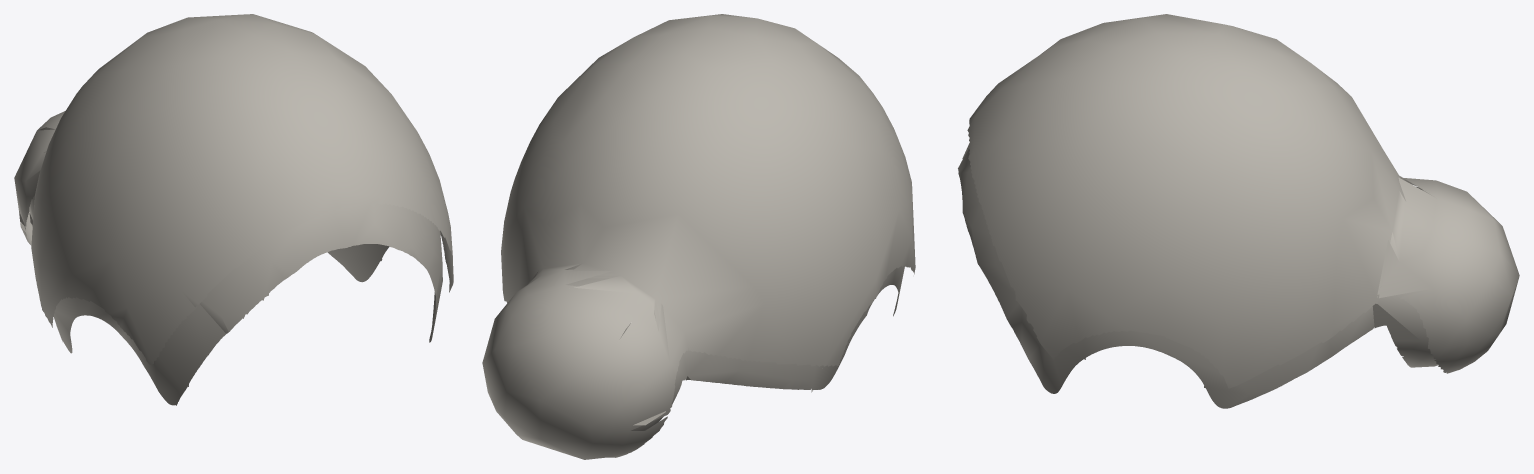
Rendered from toc_bui_edits.mid.glb.
3 renders of one model, left to right at view 1: azimuth 30°, elevation 25°; view 2: azimuth 150°, elevation 25°; view 3: azimuth 270°, elevation 25°, orthographic. The views are drawn at different scales.
Visible parts, largest first — view 1: toc_bui_edits; view 2: toc_bui_edits; view 3: toc_bui_edits.
Boxes of the visible parts, left/top/right/bottom form: toc_bui_edits: left=14, top=14, right=453, bottom=405; toc_bui_edits: left=482, top=14, right=915, bottom=459; toc_bui_edits: left=958, top=14, right=1519, bottom=408.
Size of the model in its own units: 0.1853 by 0.1923 by 0.264.
Materials: 1 (1 with a texture image).
